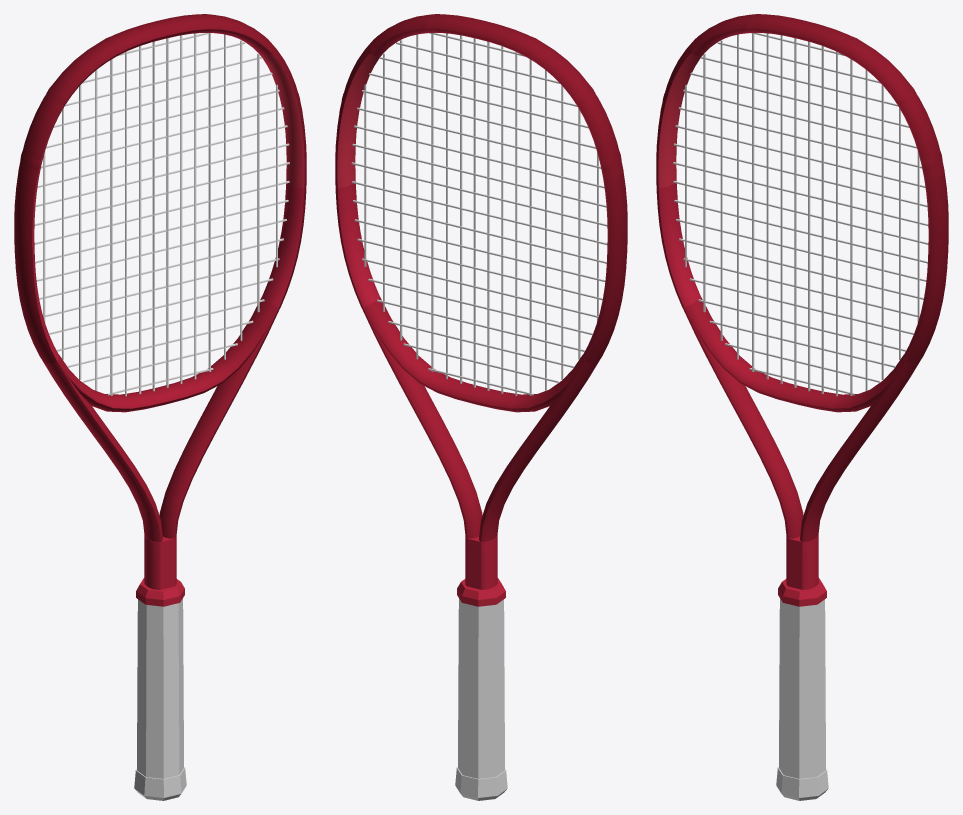
File: yonex-vcore-100.glb
The picture shows the model from 3 angles, left to right: view 1: azimuth 30°, elevation 25°; view 2: azimuth 150°, elevation 25°; view 3: azimuth 330°, elevation 25°; orthographic projection.
Visible parts, largest first — view 1: frame, strings_mains, strings_crosses, grip, bumper, grommets, butt_cap, collar; view 2: frame, strings_mains, strings_crosses, grip, bumper, grommets, butt_cap, collar; view 3: frame, strings_mains, strings_crosses, grip, bumper, grommets, butt_cap, collar.
Boxes of the visible parts, x1,y1,x2,y2 form: frame: [32, 29, 304, 589]; strings_mains: [43, 33, 277, 396]; strings_crosses: [34, 33, 289, 395]; grip: [137, 598, 183, 778]; bumper: [18, 14, 302, 181]; grommets: [14, 114, 306, 363]; butt_cap: [134, 767, 186, 800]; collar: [136, 578, 184, 606]; frame: [337, 29, 609, 589]; strings_mains: [364, 33, 598, 395]; strings_crosses: [351, 33, 607, 395]; grip: [458, 598, 504, 778]; bumper: [339, 14, 623, 181]; grommets: [335, 114, 627, 363]; butt_cap: [455, 767, 507, 800]; collar: [457, 578, 505, 606]; frame: [658, 29, 930, 589]; strings_mains: [685, 33, 919, 396]; strings_crosses: [673, 33, 928, 395]; grip: [779, 598, 825, 778]; bumper: [660, 14, 944, 181]; grommets: [656, 114, 948, 363]; butt_cap: [776, 767, 828, 800]; collar: [778, 578, 826, 606].
Bounding box in the file's own units: 0.2676 × 0.6861 × 0.0396.
